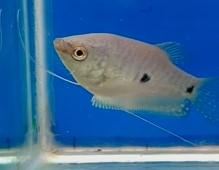Gourami: (48, 30, 219, 154)
